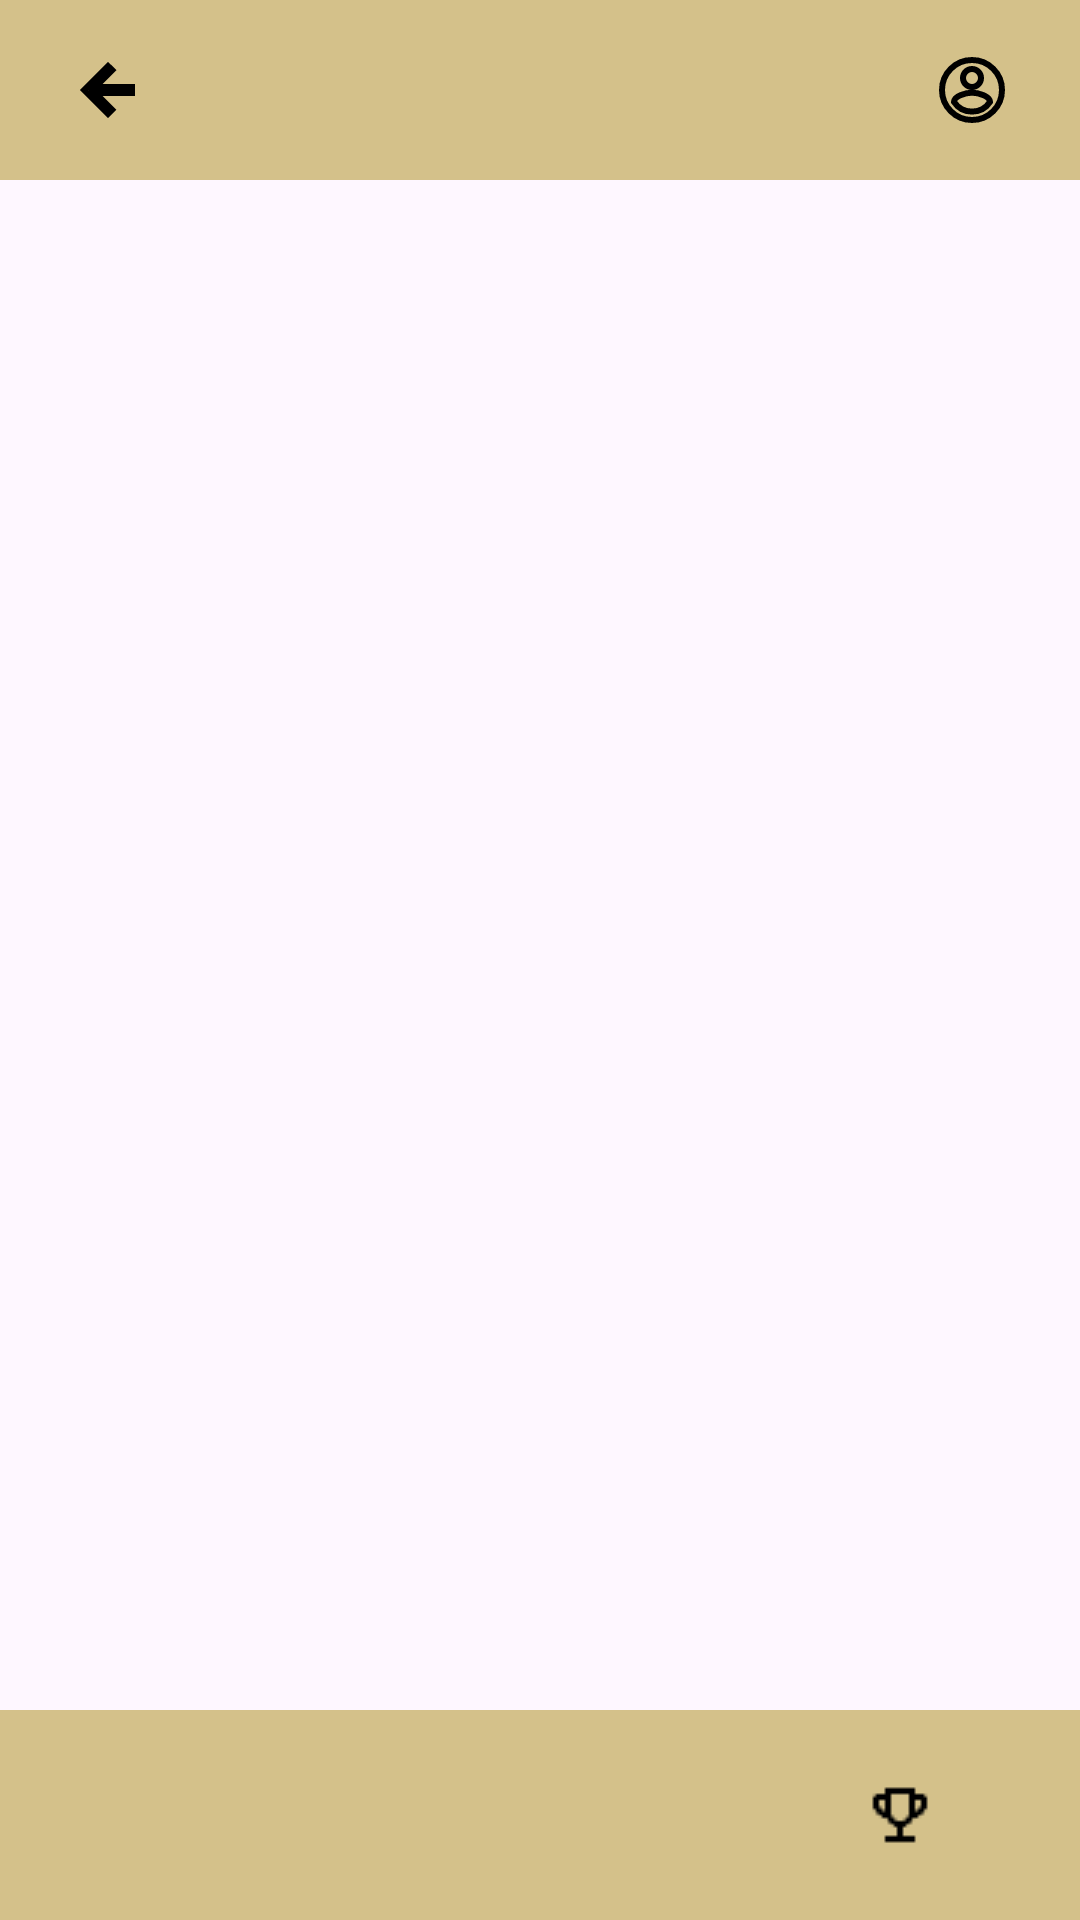

Where to tap for icons on this 1080 × 1920 app screen, as point (x, y):
arrowbackk: point (107, 90)
profilecirclee: point (972, 90)
